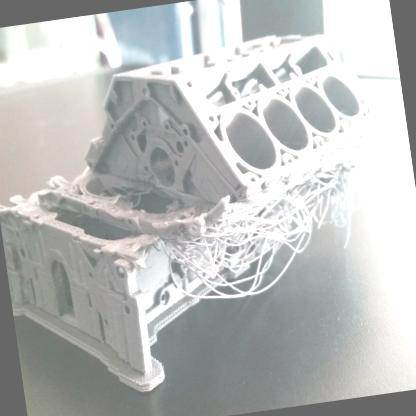fail: (170, 180, 380, 305)
